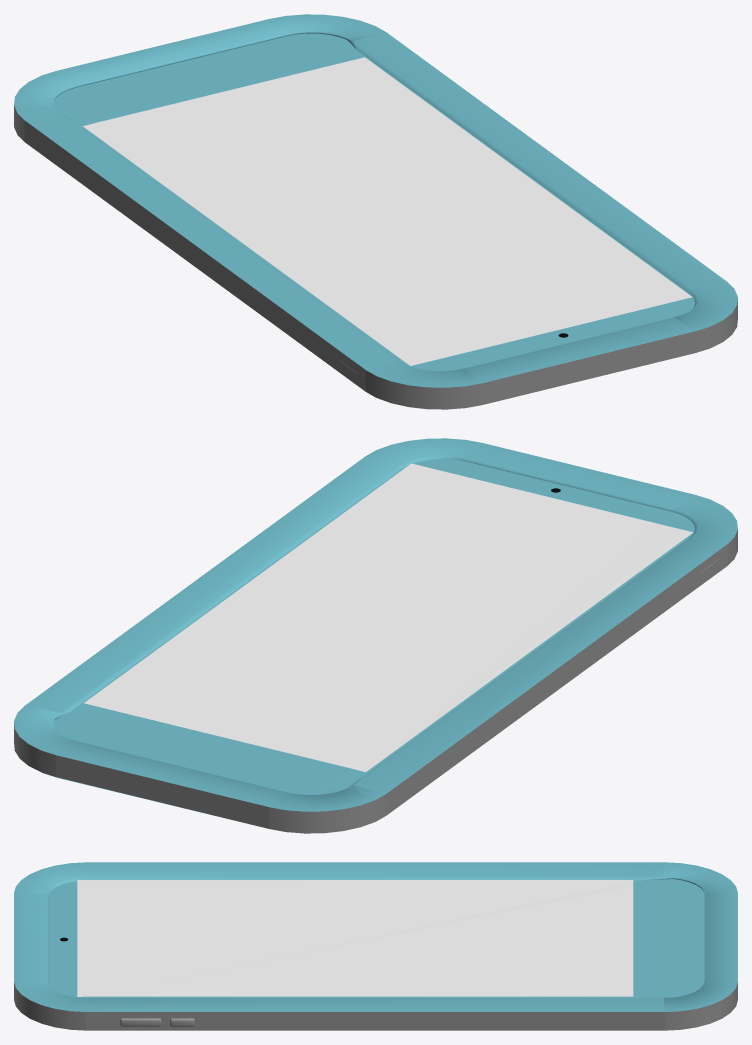
3 renders of one model, top to bottom at view 1: azimuth 30°, elevation 25°; view 2: azimuth 150°, elevation 25°; view 3: azimuth 270°, elevation 25°, orthographic. The views are drawn at different scales.
Parts seen in each view (by area): view 1: g; view 2: g; view 3: g, ChamferBox001.
Boxes of the visible parts, x1,y1,x2,y2 form: g: [14, 14, 737, 409]; g: [14, 438, 737, 833]; g: [14, 862, 737, 1030]; ChamferBox001: [120, 1018, 161, 1026].
Size of the model in its own units: 8.7 by 0.6632 by 17.63.
